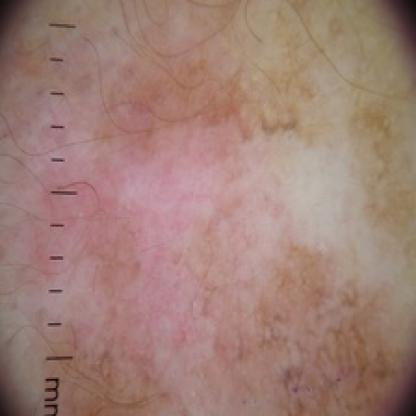malignant: (58, 123, 250, 321)
